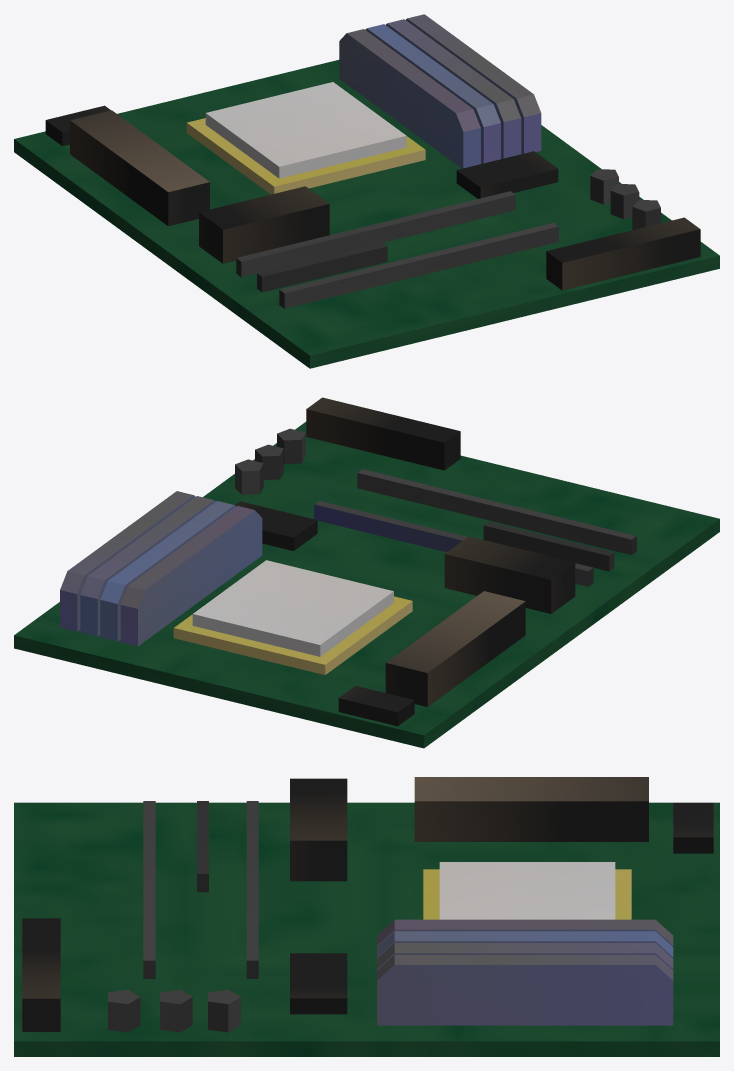
Rendered from PowerLvl1.fbx.
3 renders of one model, top to bottom at view 1: azimuth 30°, elevation 25°; view 2: azimuth 150°, elevation 25°; view 3: azimuth 270°, elevation 25°, orthographic. The views are drawn at different scales.
Visible parts, largest first — view 1: power_lvl1; view 2: power_lvl1; view 3: power_lvl1.
Part boxes in pixels (<box>): power_lvl1: <box>14,14,719,368</box>; power_lvl1: <box>14,397,719,748</box>; power_lvl1: <box>14,777,719,1056</box>.
Size of the model in its own units: 0.4065 by 0.0607 by 0.5081.
